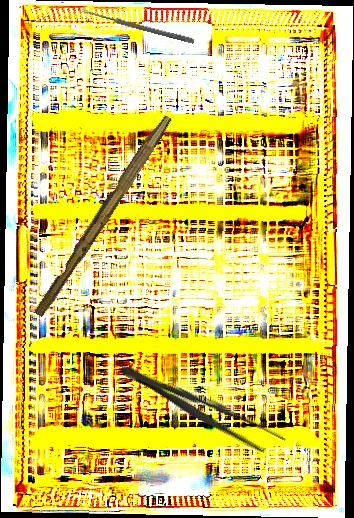Dressing Forceps: (114, 356, 289, 460)
Scalpel Handle: (32, 110, 173, 321)
Surgical Spoon: (81, 8, 195, 44)
